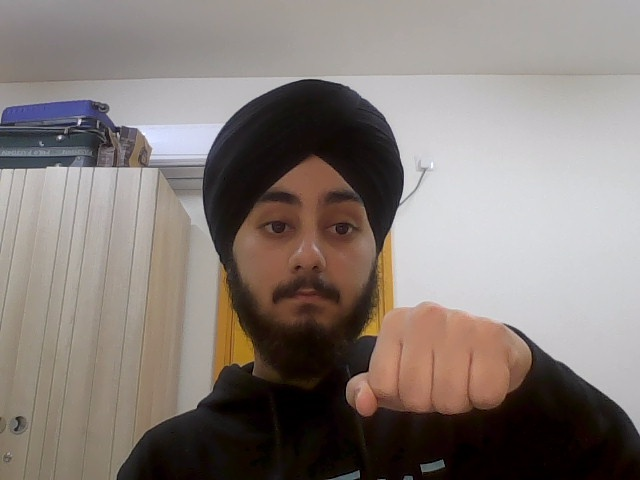Yes: (342, 298, 539, 416)
